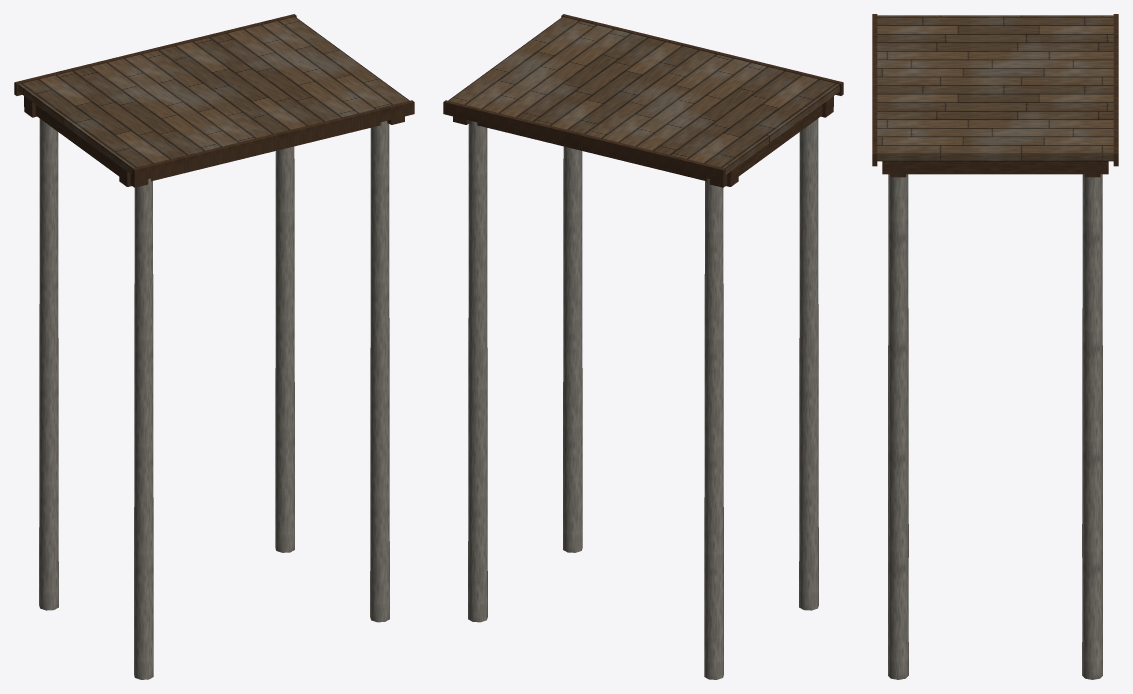
File: SM_Art_Pier_405x300x100_P725.gltf
3 views of the same model, side by side, from view 1: azimuth 30°, elevation 25°; view 2: azimuth 150°, elevation 25°; view 3: azimuth 270°, elevation 25° (orthographic). The views are drawn at different scales.
Parts seen in each view (by area): view 1: SM_Art_Pier_405x300x100_P725; view 2: SM_Art_Pier_405x300x100_P725; view 3: SM_Art_Pier_405x300x100_P725.
Boxes of the visible parts, box(x1,y1,x2,y2) form: SM_Art_Pier_405x300x100_P725: box(14, 14, 414, 679); SM_Art_Pier_405x300x100_P725: box(443, 14, 843, 679); SM_Art_Pier_405x300x100_P725: box(872, 14, 1118, 679).
Size of the model in its own units: 4.09 by 7.26 by 3.04.
Materials: 3 (3 with a texture image).
